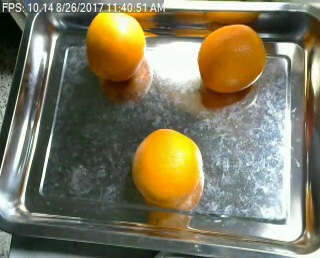Orange: (132, 126, 204, 207), (197, 23, 266, 92), (86, 10, 146, 82)
